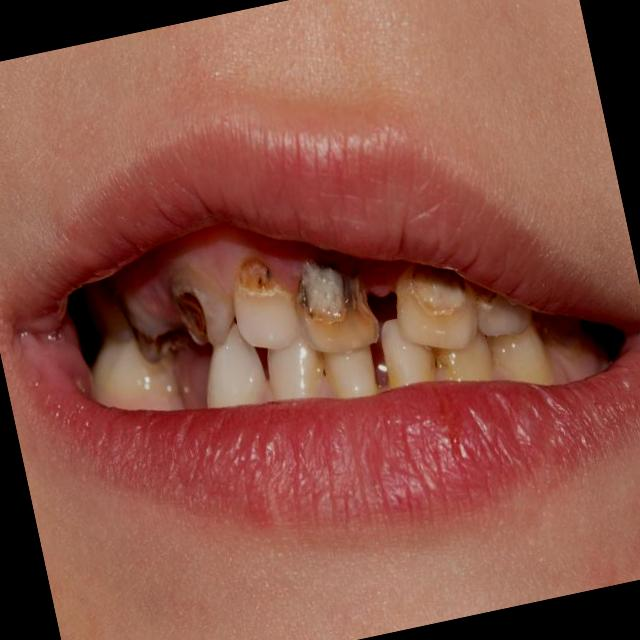caries: (287, 246, 381, 358), (388, 257, 484, 358), (113, 272, 196, 367), (225, 253, 303, 353), (166, 260, 238, 351), (476, 278, 536, 342)
